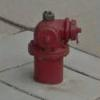Hydrant: (21, 5, 84, 89)
